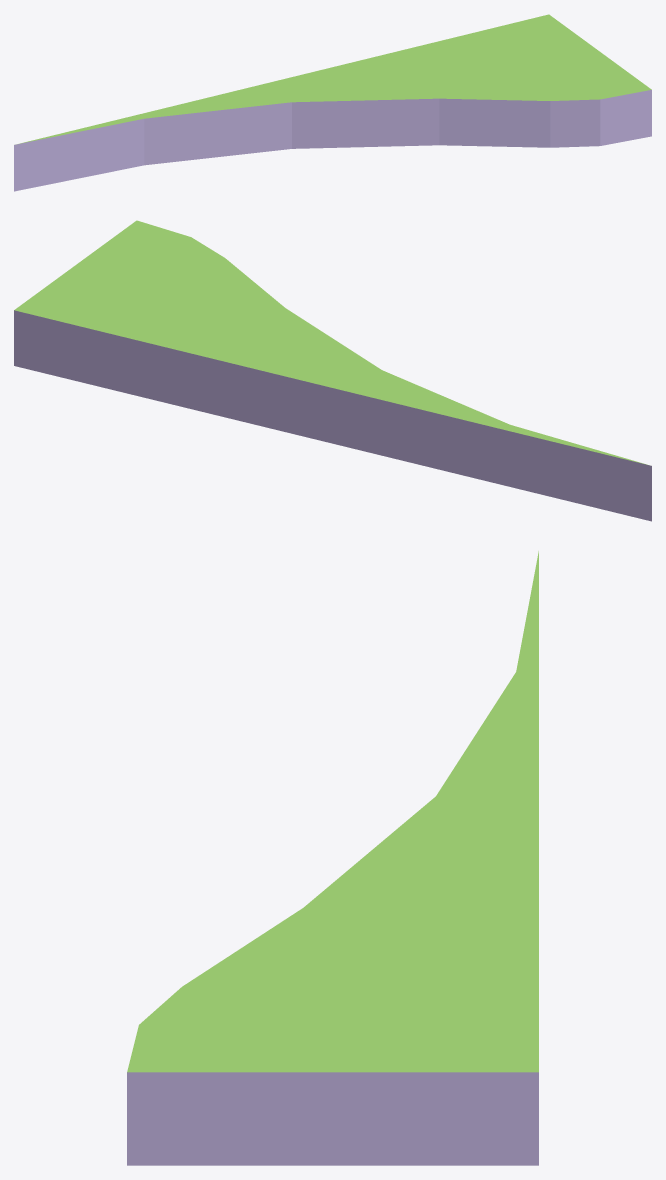
File: Tiered_Grass_Esse_Outside_1x3.glb
The picture shows the model from 3 angles, top to bottom: view 1: azimuth 30°, elevation 25°; view 2: azimuth 150°, elevation 25°; view 3: azimuth 270°, elevation 25°; orthographic projection. The views are drawn at different scales.
Parts seen in each view (by area): view 1: Tiered_Grass_Esse_Outside_1x3; view 2: Tiered_Grass_Esse_Outside_1x3; view 3: Tiered_Grass_Esse_Outside_1x3.
Part boxes in pixels (box(x1,y1,x2,y2)): Tiered_Grass_Esse_Outside_1x3: box(14, 14, 651, 191); Tiered_Grass_Esse_Outside_1x3: box(14, 220, 651, 521); Tiered_Grass_Esse_Outside_1x3: box(127, 551, 538, 1165).
Size of the model in its own units: 300 by 25 by 100.
